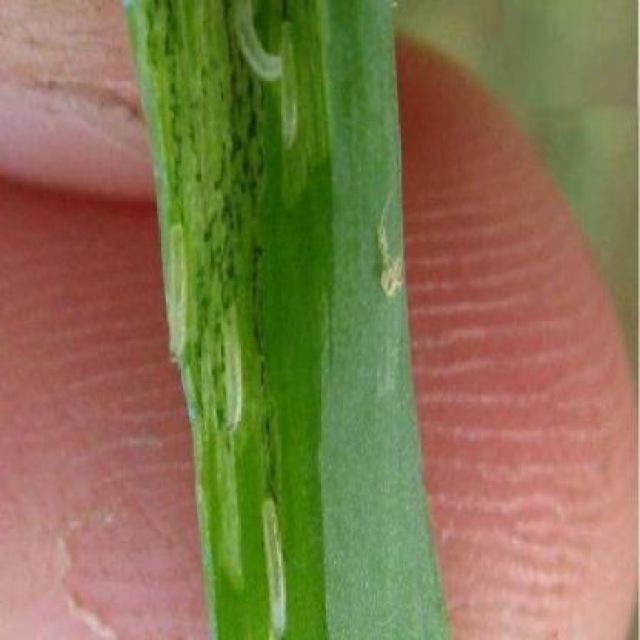whorl-maggot: (219, 0, 285, 92), (160, 209, 194, 369), (257, 494, 294, 640), (272, 17, 305, 145), (220, 295, 246, 442)
